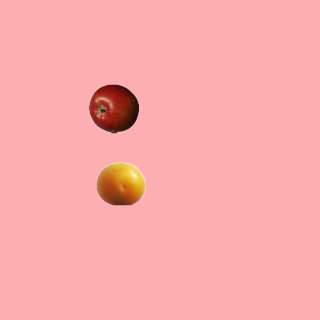Apple Braeburn: (88, 83, 138, 133)
Cherry Wax Yellow: (95, 158, 145, 208)
